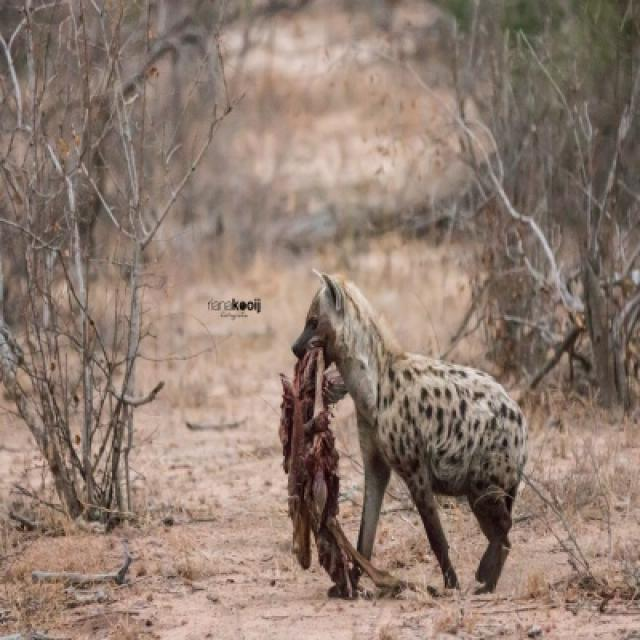hyena: (290, 274, 530, 595)
